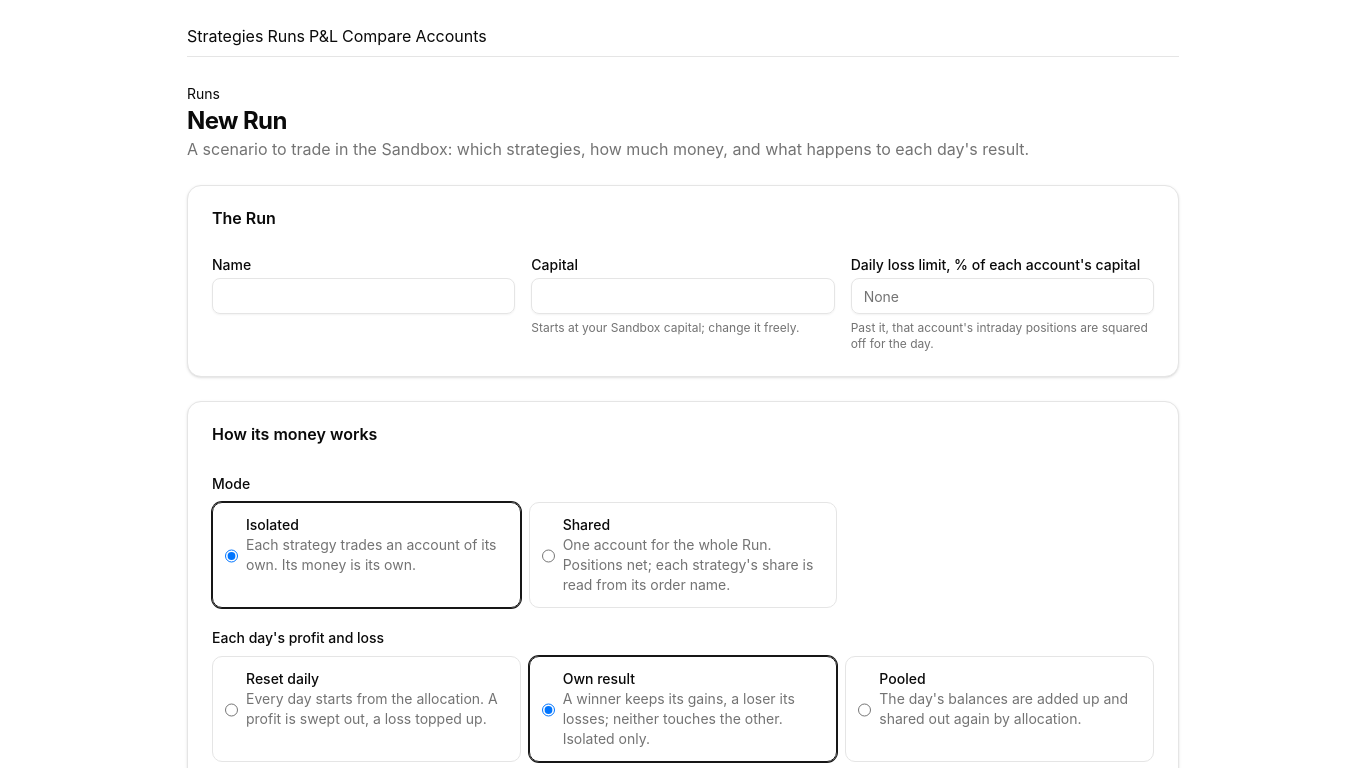
Test: RunForm › a shared Run cannot keep each strategy its own result
The width and height of the screenshot is (1366, 768).
Click the radio button labelled "Shared" at (548, 556), box [542, 517, 555, 595]
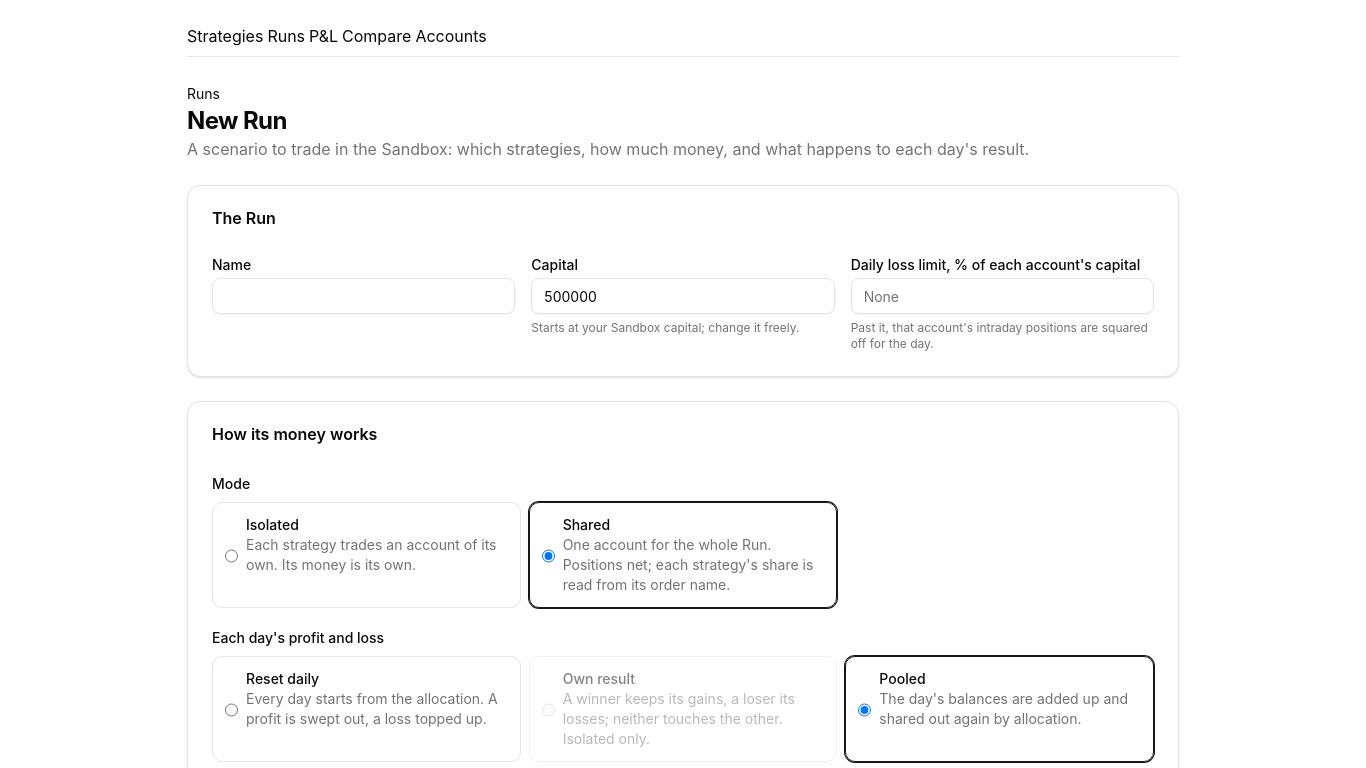
expect the radio button labelled "Pooled" is checked: met, box [858, 671, 871, 749]
